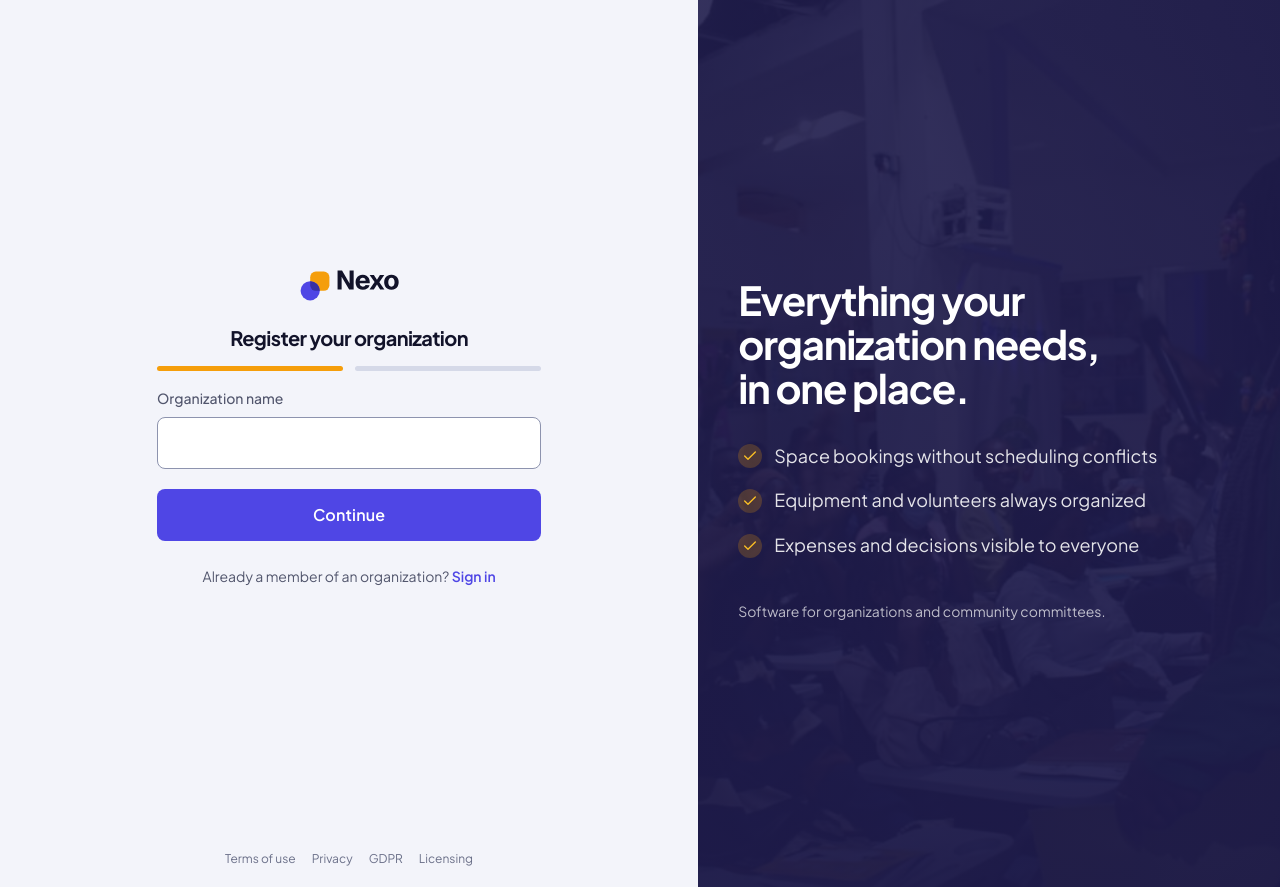
Scenario: RegisterForm › given the email already registered, when submitting, then it says so
Type "Associação Horizonte" into the field labelled "Organization name" at (349, 443), box [157,417,541,469]
Click the button "Continue" at (349, 515), box [157,489,541,540]
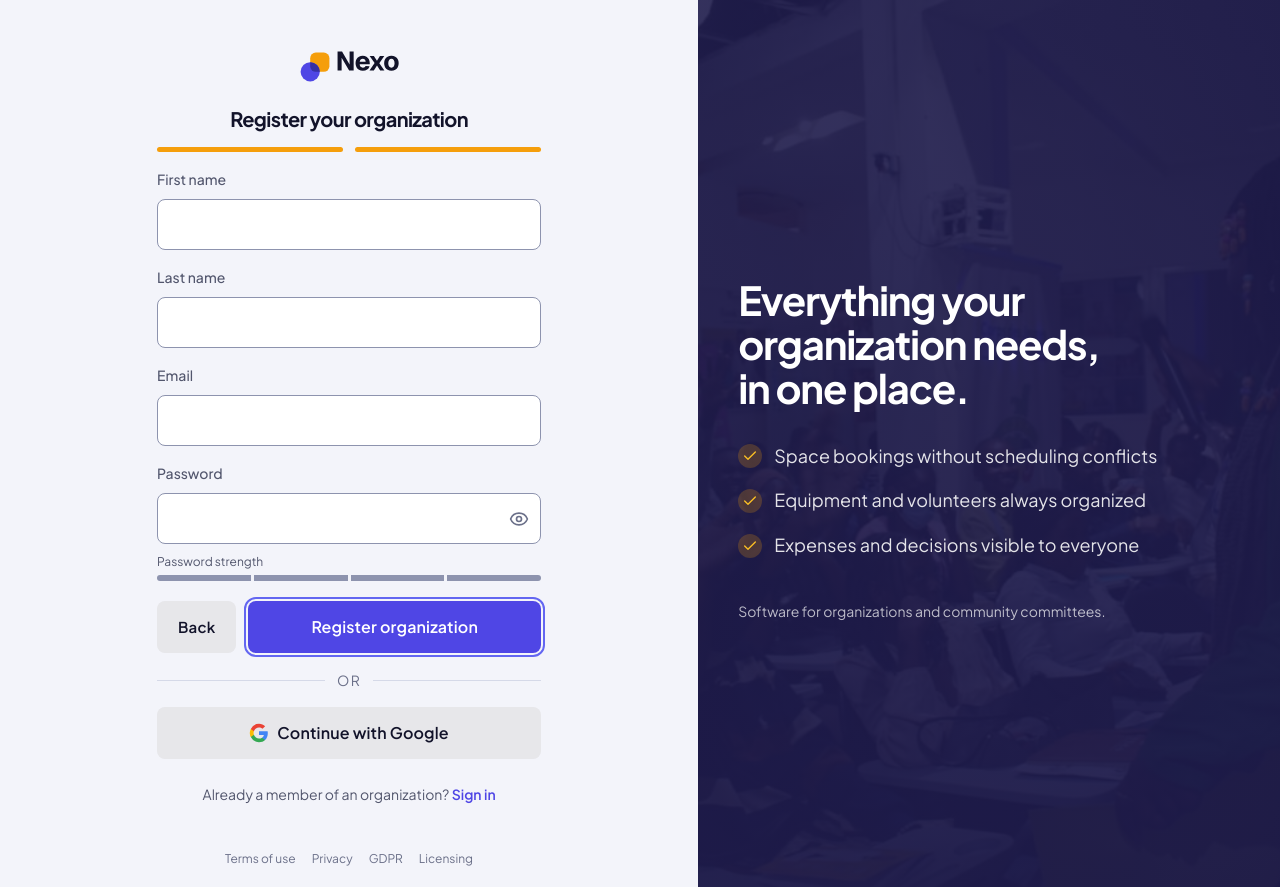
Type "Ana" into the field labelled "First name" at (349, 225), box [157,199,541,250]
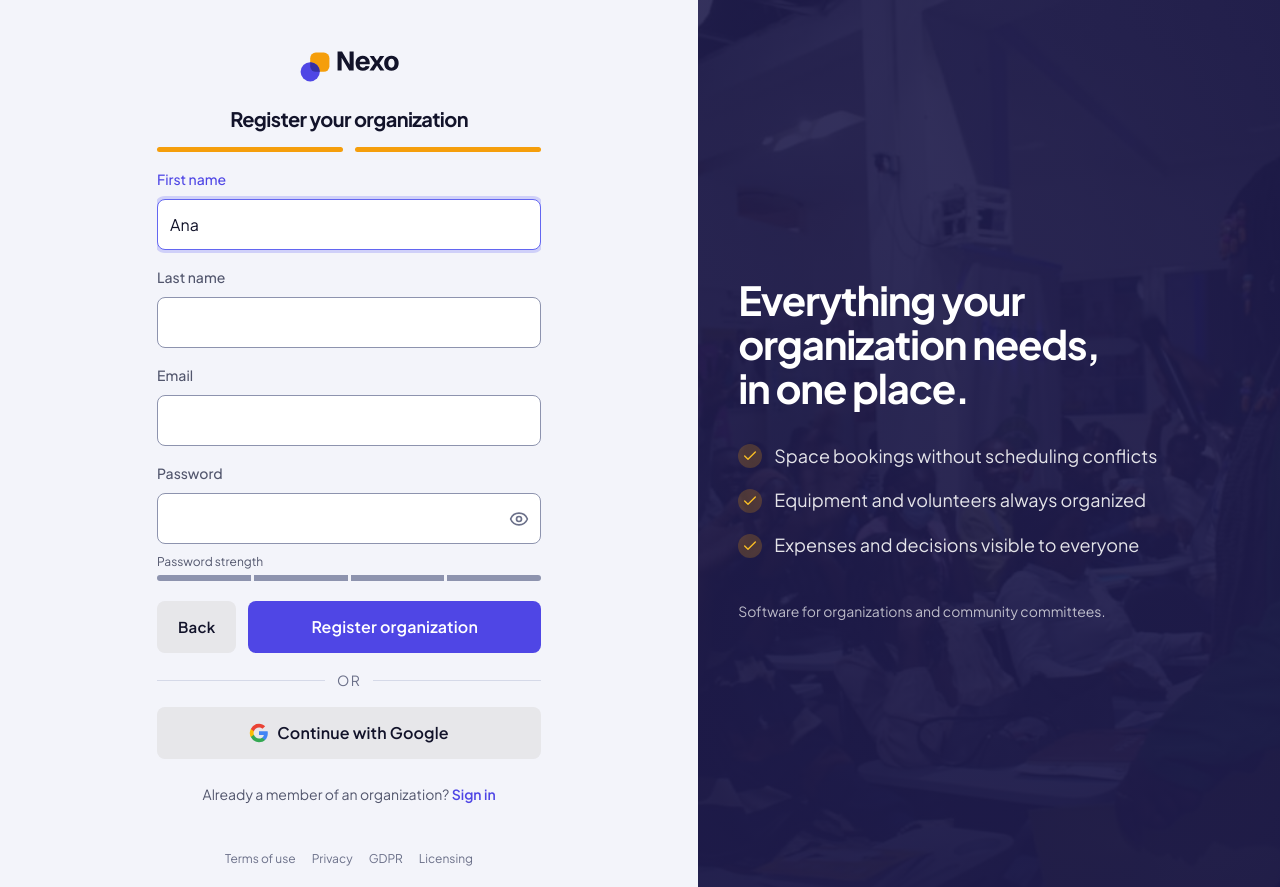
Type "Admin" into the field labelled "Last name" at (349, 322), box [157,297,541,348]
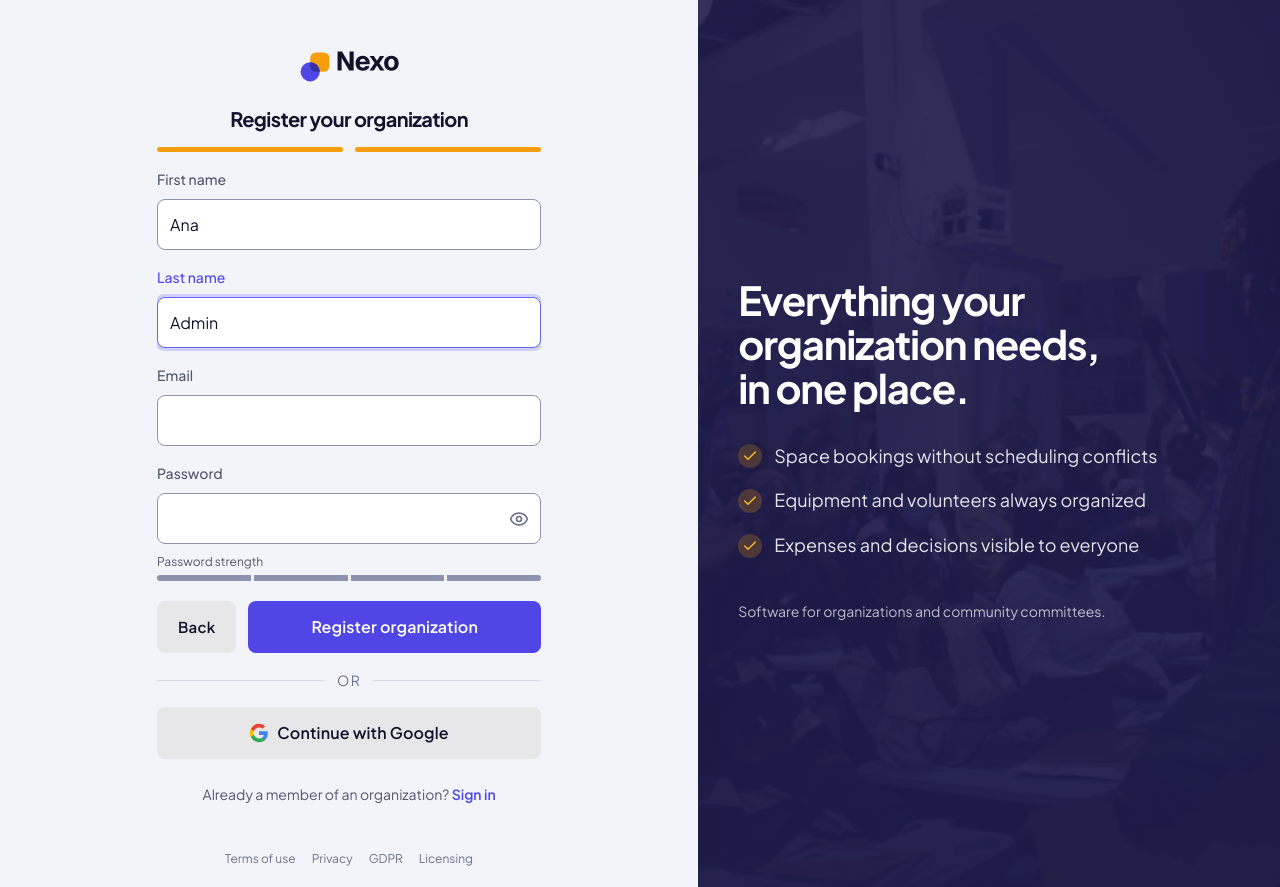
Type "ana@example.com" into the field labelled "Email" at (349, 420), box [157,395,541,446]
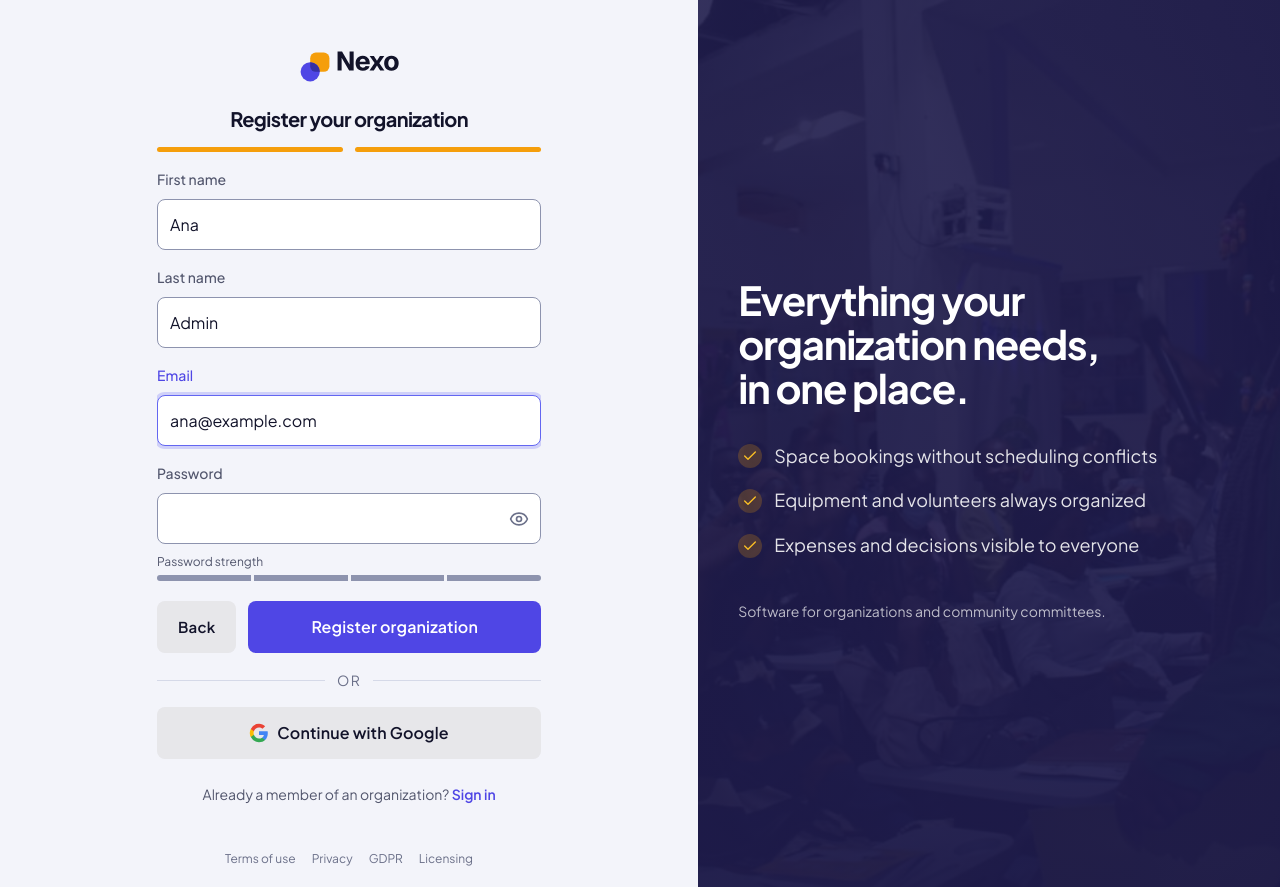
Type "Secret-123" into the password field labelled "Password" at (349, 518), box [157,493,541,544]
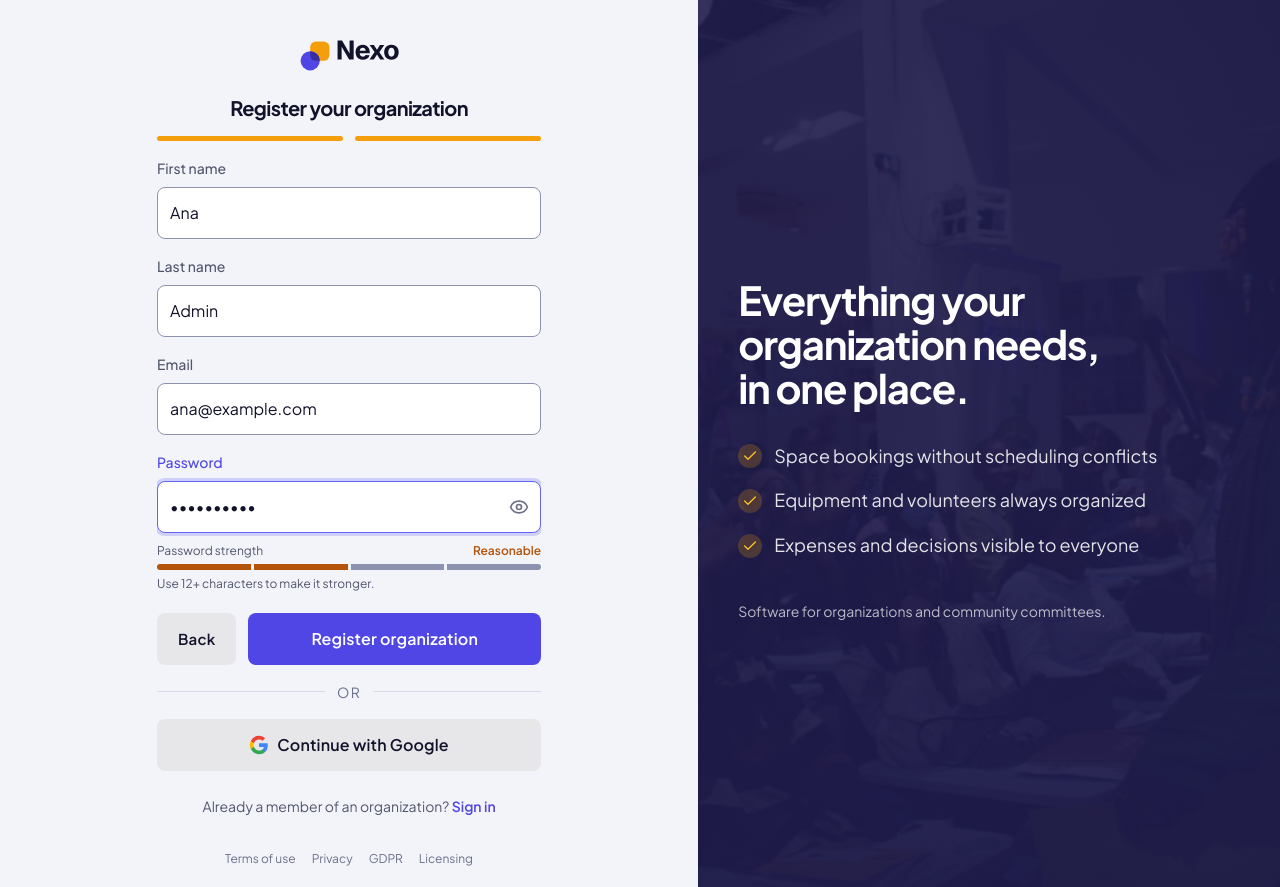
Click the button "Register organization" at (395, 639), box [248,613,541,665]
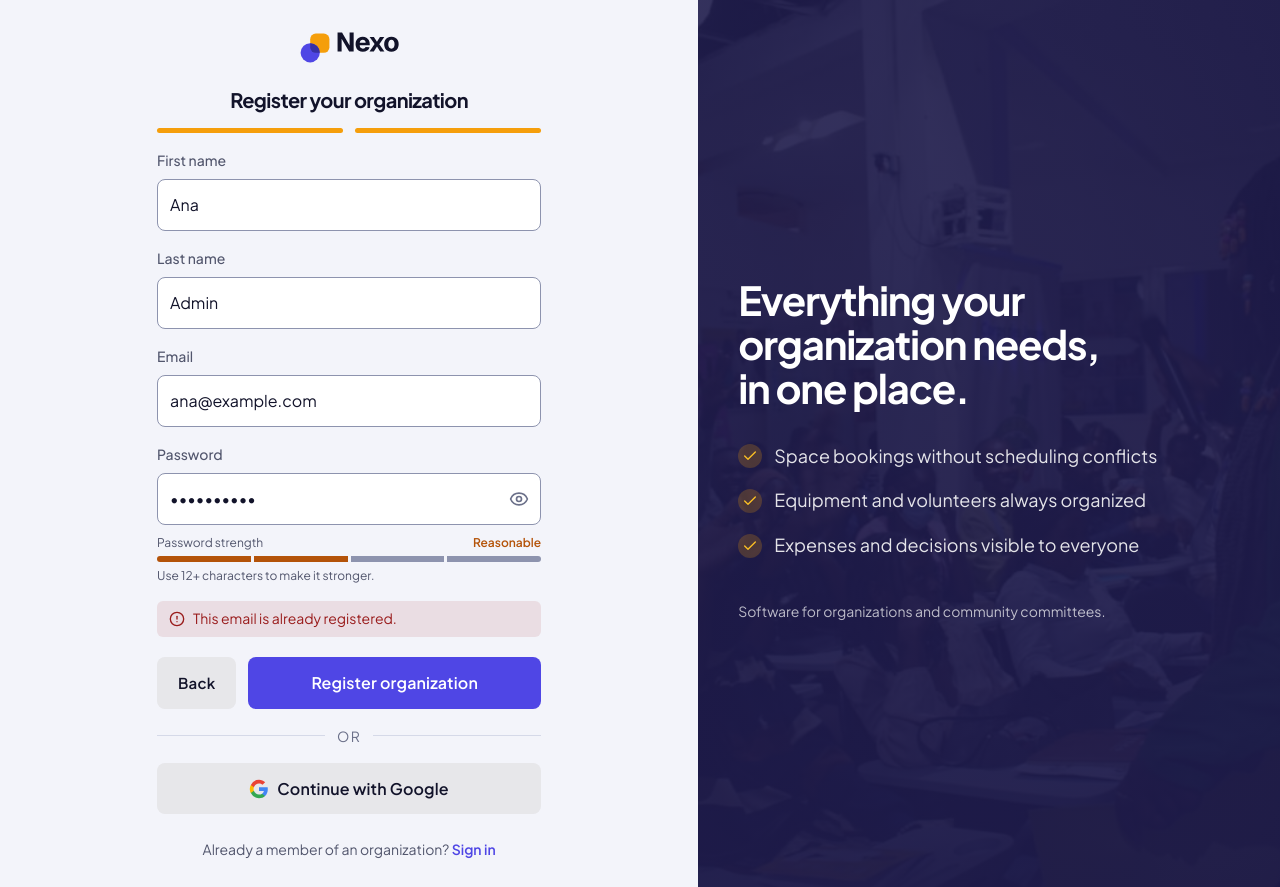
Check: the message shows "already registered", box [193,609,397,627]
